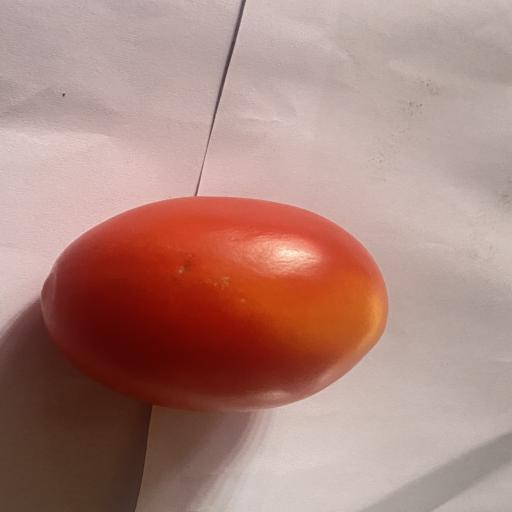ripe: (40, 197, 388, 412)
